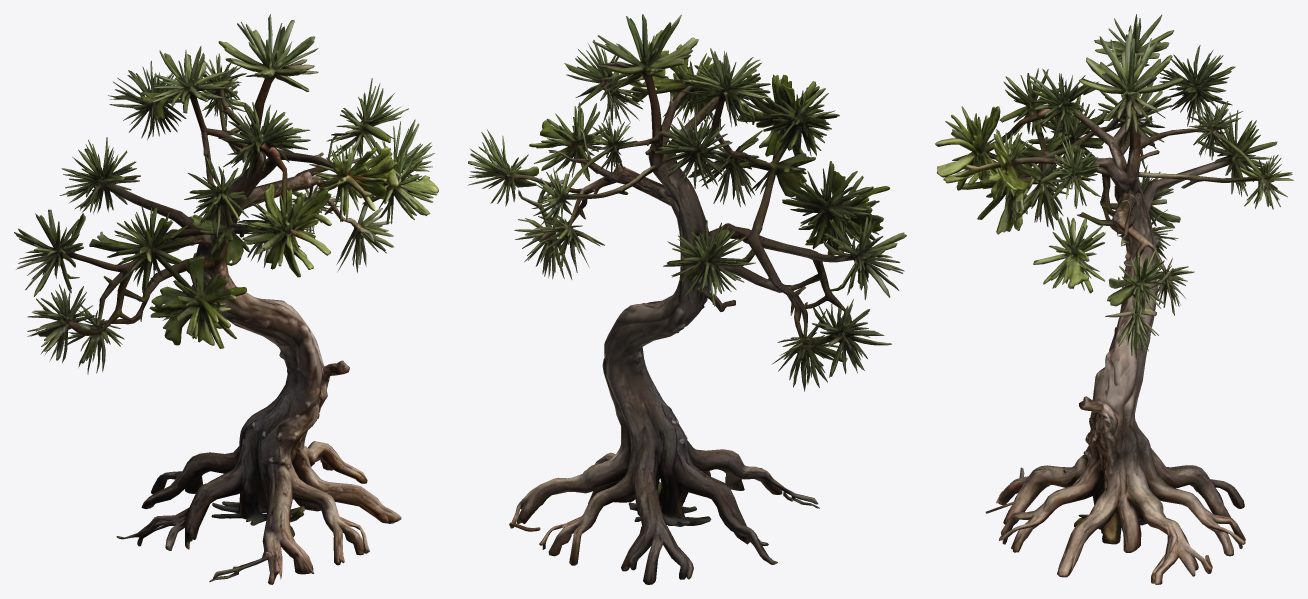
The model's file is wind-pine.glb.
3 renders of one model, left to right at view 1: azimuth 30°, elevation 25°; view 2: azimuth 150°, elevation 25°; view 3: azimuth 270°, elevation 25°, orthographic. The views are drawn at different scales.
Parts seen in each view (by area): view 1: node_120f4ddf-ed71-48fb-bfc1-be709339e916; view 2: node_120f4ddf-ed71-48fb-bfc1-be709339e916; view 3: node_120f4ddf-ed71-48fb-bfc1-be709339e916.
Part boxes in pixels (x1,y1,x2,y2): node_120f4ddf-ed71-48fb-bfc1-be709339e916: [14, 14, 438, 584]; node_120f4ddf-ed71-48fb-bfc1-be709339e916: [467, 14, 906, 584]; node_120f4ddf-ed71-48fb-bfc1-be709339e916: [935, 14, 1293, 584].
Size of the model in its own units: 0.8562 by 0.9803 by 0.6398.
Materials: 1 (1 with a texture image).
